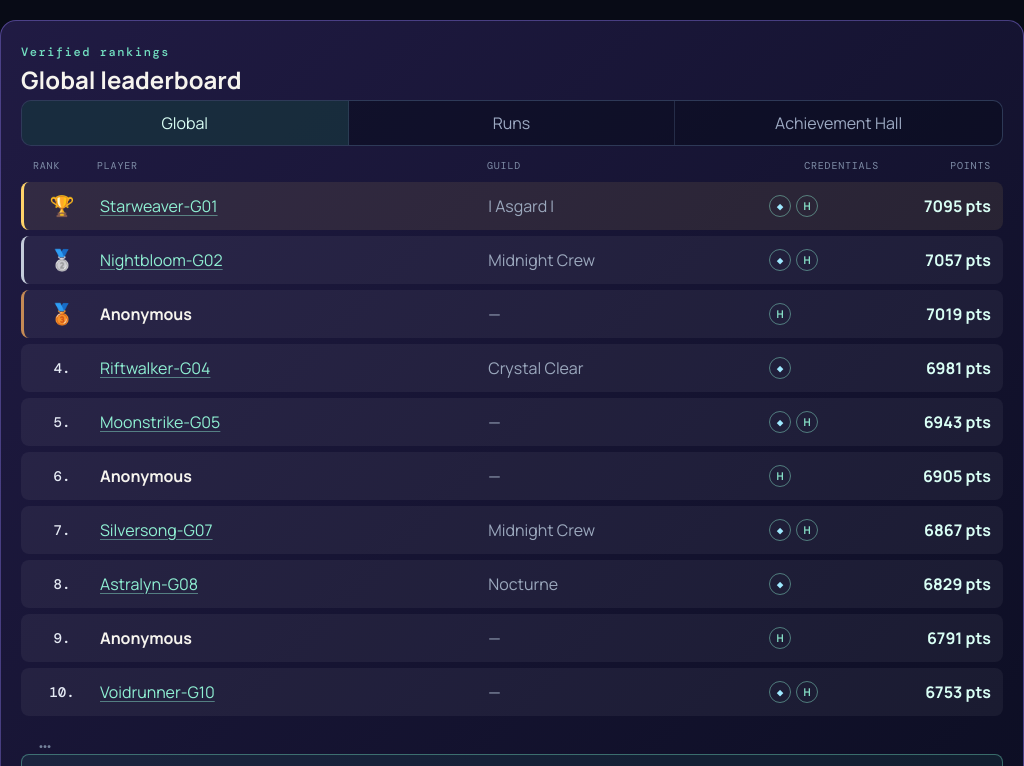
Test case: optional online profile › presents a distinct account-wide Achievement Hall with an own-position row
What coordinates should you click on to do the following:
click the button "Achievement Hall"
I would click on:
 (839, 123)
Its box is [675, 101, 1002, 145].
(page scrolled)
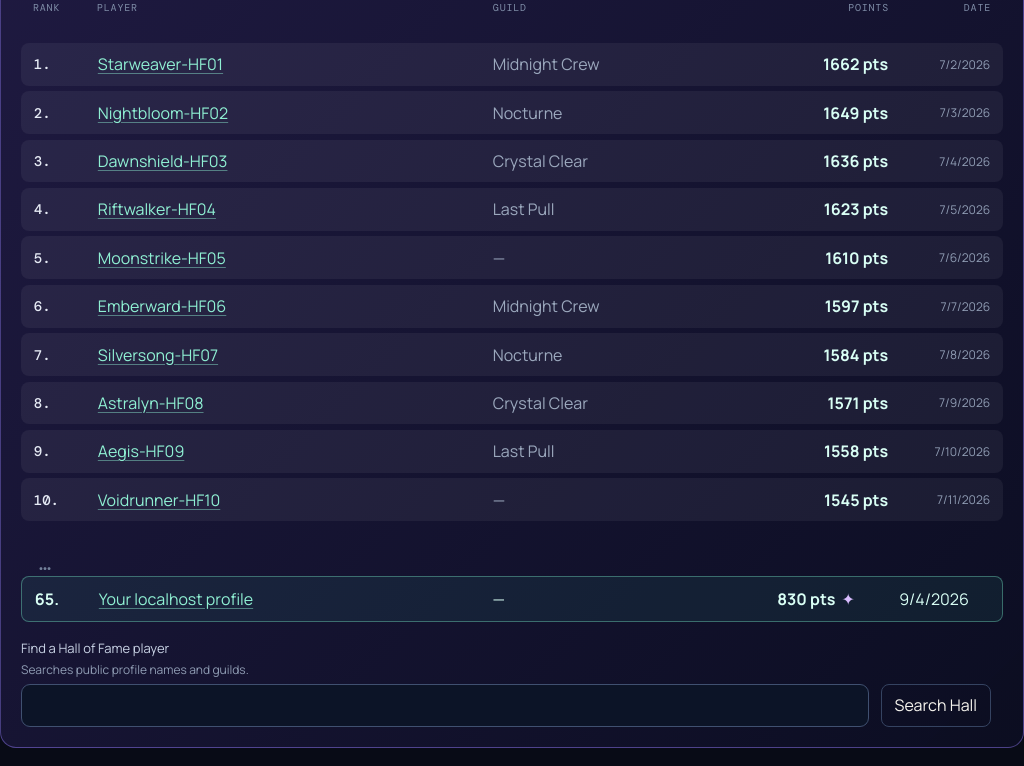
Now the text "1662 pts" is shown 11 times
